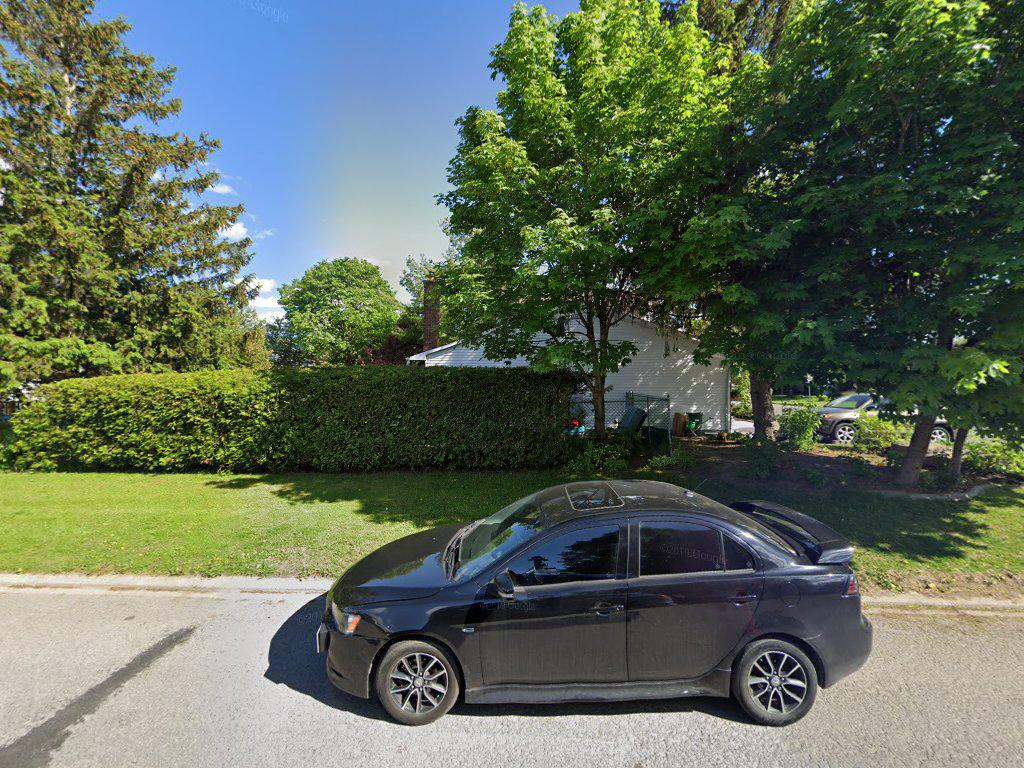trunk: (893, 403, 931, 495)
